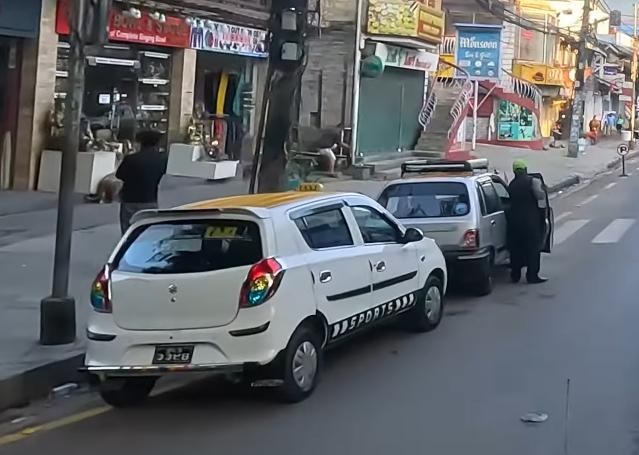taxi: (75, 180, 453, 409), (366, 153, 553, 298)
